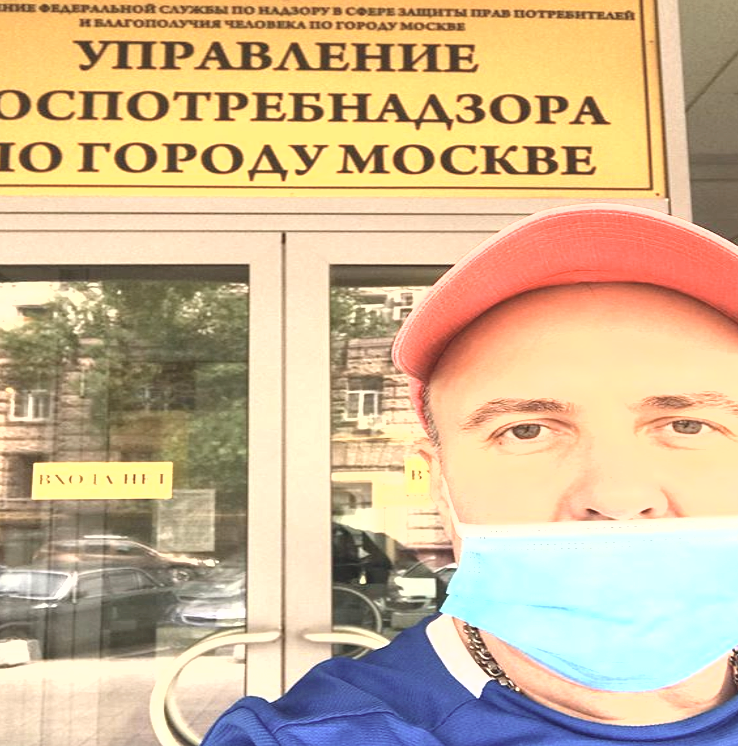mask_weared_incorrect: (418, 240, 738, 683)
